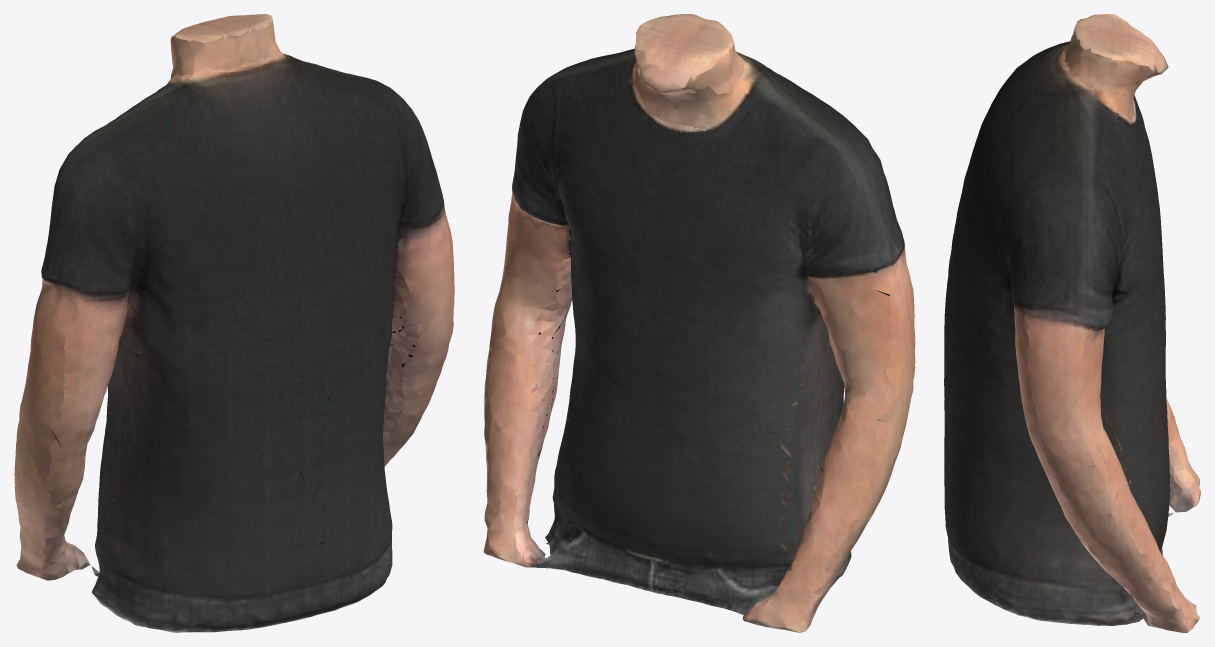
Rendered from prendaPlayera_Negra2.glb.
3 renders of one model, left to right at view 1: azimuth 30°, elevation 25°; view 2: azimuth 150°, elevation 25°; view 3: azimuth 270°, elevation 25°, orthographic. The views are drawn at different scales.
Visible parts, largest first — view 1: world; view 2: world; view 3: world.
Part boxes in pixels (x1,y1,x2,y2): world: (14, 14, 454, 632); world: (483, 14, 915, 632); world: (944, 14, 1200, 632).
Size of the model in its own units: 0.7429 by 0.9613 by 0.4105.
1 material, 1 textured.
